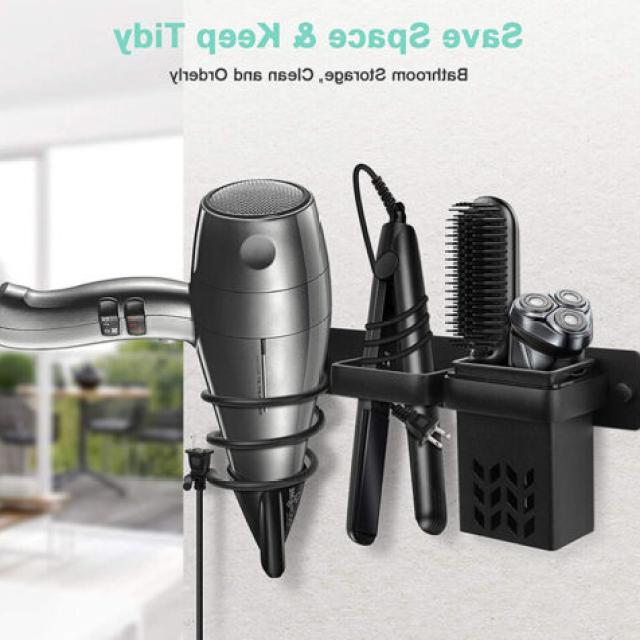dryer: (0, 153, 359, 586)
